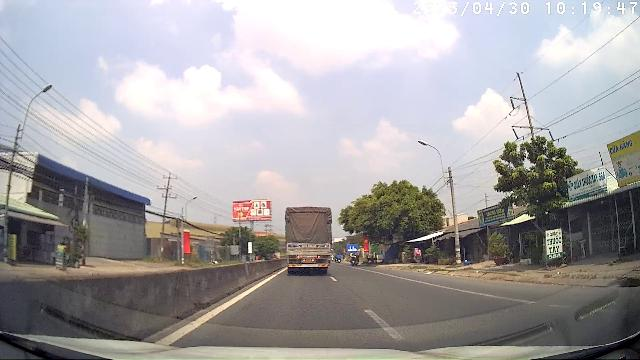420-bat-dau-khu-dong-dan-cu: (347, 244, 357, 252)
